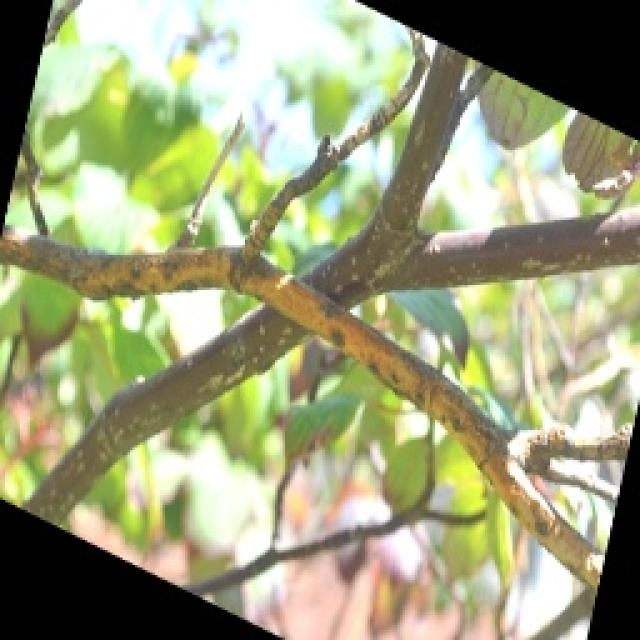Golden_canker: (38, 53, 614, 631)
